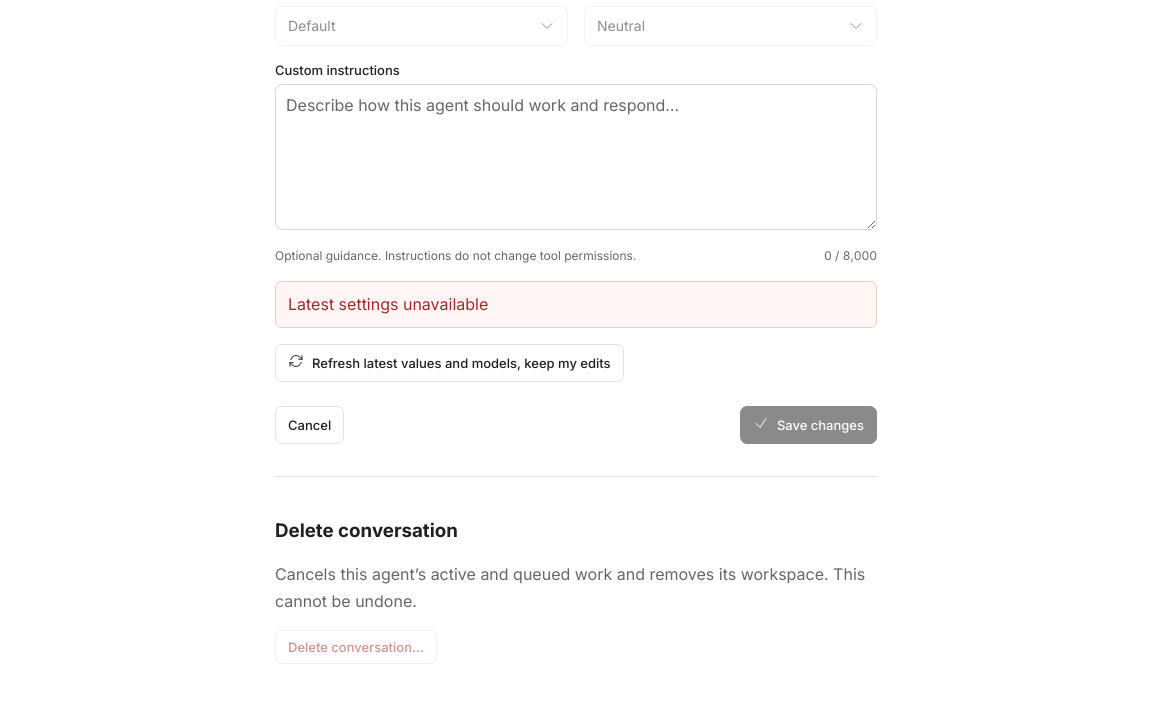
Test: keeps mutation and recovery controls blocked after initial settings failure until explicit refresh succeeds
(page scrolled)
Check: the text "Latest settings unavailable" is shown, box [275, 281, 877, 328]
Check: the button "Delete conversation…" is disabled, box [275, 630, 437, 664]
Click the button "Refresh latest values and models, keep my edits".
click(449, 363)  # box [275, 344, 624, 382]
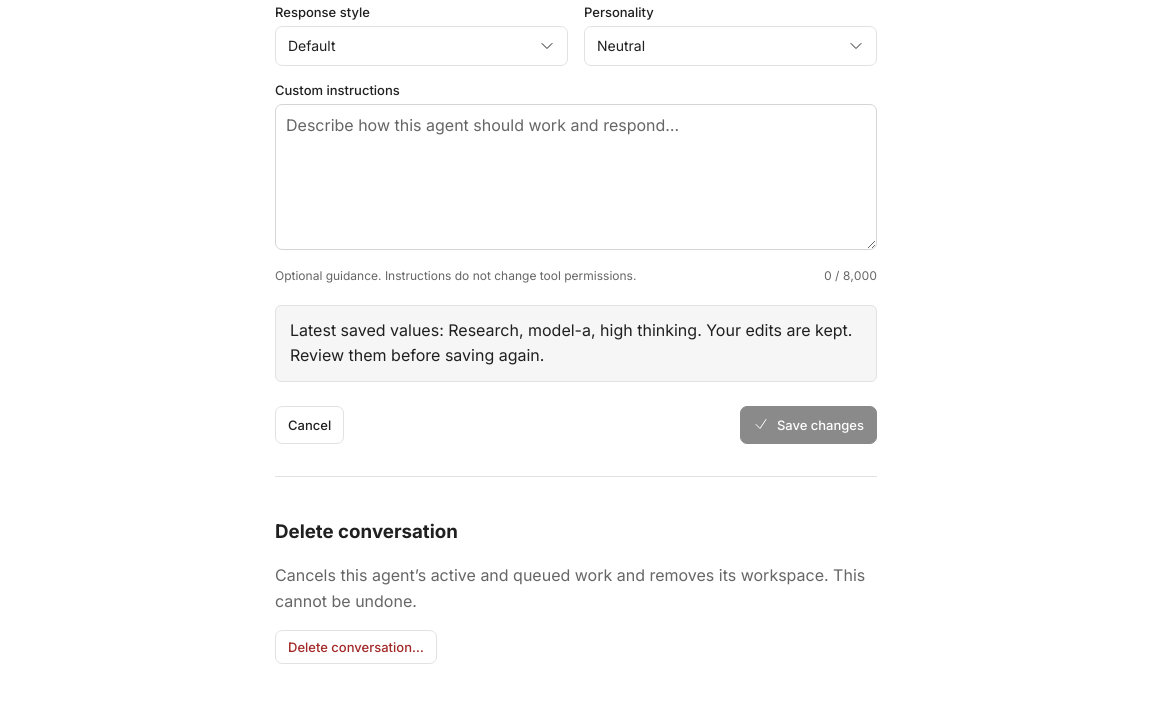
Check: the button "Delete conversation…" is enabled, box [275, 630, 437, 664]
